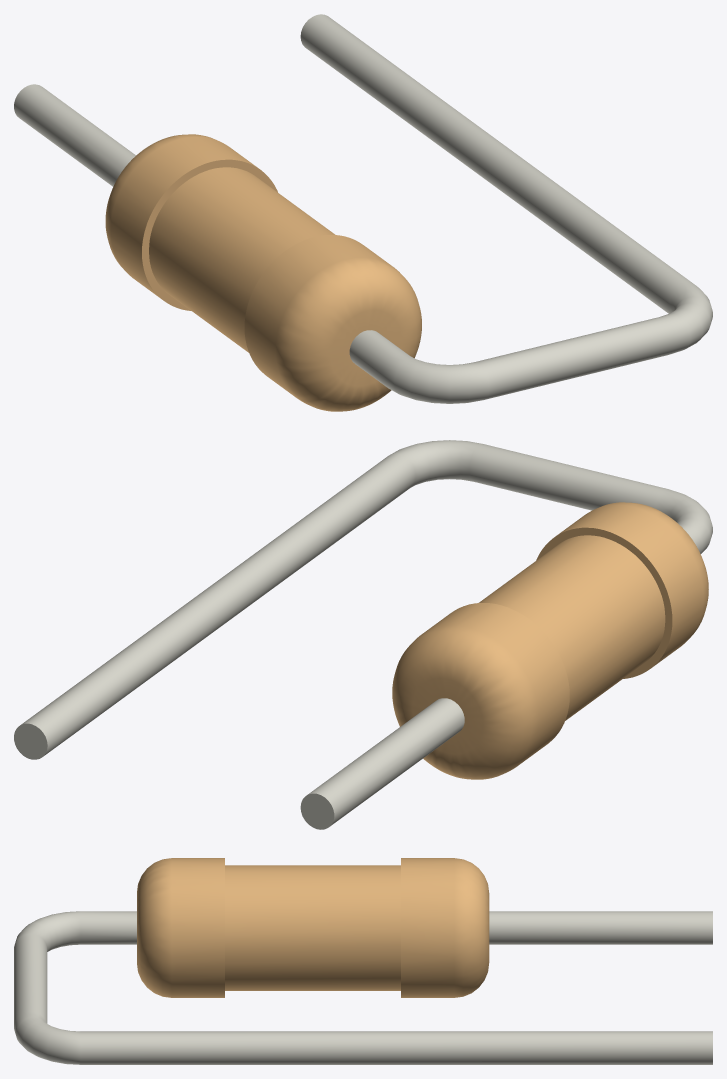
File: r-axial-din0207-l6.3-d2.5-p5.08-v.glb
3 renders of one model, top to bottom at view 1: azimuth 30°, elevation 25°; view 2: azimuth 150°, elevation 25°; view 3: azimuth 270°, elevation 25°, orthographic. The views are drawn at different scales.
Parts seen in each view (by area): view 1: RES-THT-01, PIN-01; view 2: RES-THT-01, PIN-01; view 3: RES-THT-01, PIN-01.
Part boxes in pixels (x1=…): RES-THT-01: x1=105, y1=134, x2=421, y2=411; PIN-01: x1=14, y1=14, x2=712, y2=403; RES-THT-01: x1=392, y1=502, x2=708, y2=779; PIN-01: x1=14, y1=440, x2=712, y2=829; RES-THT-01: x1=137, y1=858, x2=489, y2=997; PIN-01: x1=14, y1=911, x2=712, y2=1064.
Bounding box in the file's own units: 6.63 × 2.5 × 12.5.
